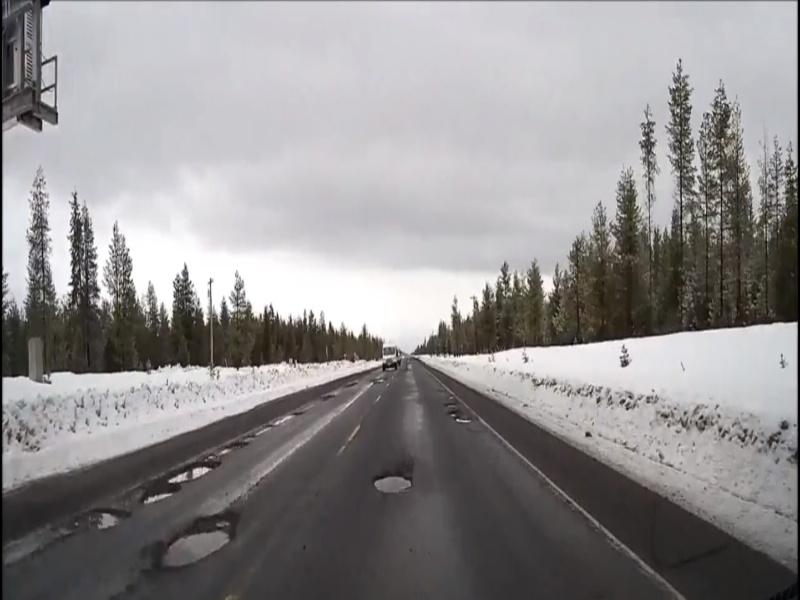pothole: (160, 516, 248, 573), (164, 457, 225, 484), (65, 513, 134, 534), (141, 480, 183, 504), (372, 471, 414, 492), (226, 437, 252, 451), (442, 399, 461, 409), (321, 391, 338, 402), (444, 407, 463, 416), (290, 409, 308, 417), (264, 419, 280, 428), (454, 416, 469, 423)
